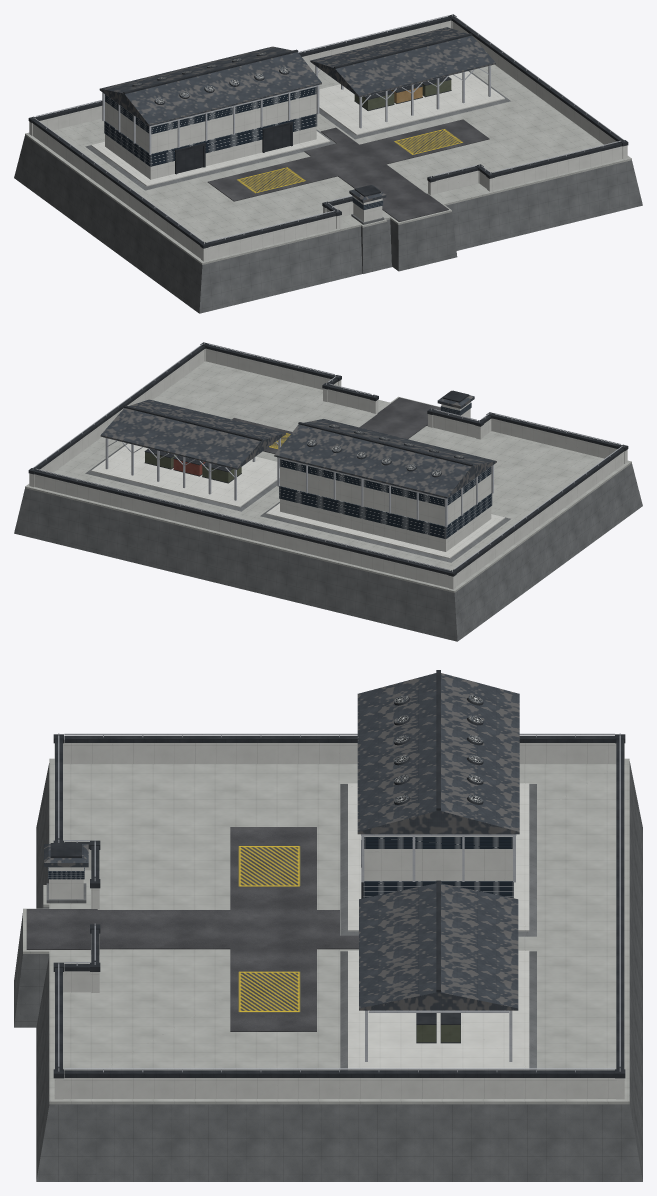
Rendered from barracks.glb.
3 views of the same model, one above another, from view 1: azimuth 30°, elevation 25°; view 2: azimuth 150°, elevation 25°; view 3: azimuth 270°, elevation 25° (orthographic). The views are drawn at different scales.
Visible parts, largest first — view 1: BRK_L1_ConcDark, BRK_L1_ConcMid, BRK_L1_ConcLight, BRK_L1_RoofCorr, BRK_L1_Asphalt, BRK_L1_SteelDark, BRK_L1_WindowDark, BRK_L1_SteelTruss, BRK_L1_HatchZone, BRK_L1_DoorCorr, BRK_L1_MilOlive, BRK_L1_RoofVent; view 2: BRK_L1_ConcDark, BRK_L1_ConcLight, BRK_L1_ConcMid, BRK_L1_RoofCorr, BRK_L1_SteelDark, BRK_L1_WindowDark, BRK_L1_SteelTruss, BRK_L1_Asphalt, BRK_L1_MilOlive, BRK_L1_RoofVent; view 3: BRK_L1_ConcMid, BRK_L1_ConcDark, BRK_L1_RoofCorr, BRK_L1_ConcLight, BRK_L1_Asphalt, BRK_L1_SteelDark, BRK_L1_HatchZone, BRK_L1_SteelTruss, BRK_L1_WindowDark, BRK_L1_RoofVent, BRK_L1_MilOlive.
Boxes of the visible parts, left/top/right/bottom form: BRK_L1_ConcDark: left=14, top=71, right=642, bottom=313; BRK_L1_ConcMid: left=25, top=64, right=631, bottom=264; BRK_L1_ConcLight: left=29, top=20, right=627, bottom=261; BRK_L1_RoofCorr: left=99, top=27, right=495, bottom=202; BRK_L1_Asphalt: left=207, top=119, right=489, bottom=221; BRK_L1_SteelDark: left=28, top=14, right=628, bottom=248; BRK_L1_WindowDark: left=104, top=86, right=383, bottom=209; BRK_L1_SteelTruss: left=32, top=14, right=624, bottom=243; BRK_L1_HatchZone: left=236, top=128, right=463, bottom=193; BRK_L1_DoorCorr: left=177, top=124, right=290, bottom=173; BRK_L1_MilOlive: left=354, top=80, right=451, bottom=110; BRK_L1_RoofVent: left=132, top=52, right=288, bottom=103; BRK_L1_ConcDark: left=14, top=443, right=642, bottom=641; BRK_L1_ConcLight: left=29, top=348, right=627, bottom=589; BRK_L1_ConcMid: left=25, top=361, right=631, bottom=592; BRK_L1_RoofCorr: left=100, top=390, right=496, bottom=498; BRK_L1_SteelDark: left=28, top=342, right=628, bottom=576; BRK_L1_WindowDark: left=279, top=402, right=492, bottom=538; BRK_L1_SteelTruss: left=32, top=342, right=624, bottom=571; BRK_L1_Asphalt: left=232, top=397, right=441, bottom=453; BRK_L1_MilOlive: left=145, top=452, right=241, bottom=482; BRK_L1_RoofVent: left=307, top=425, right=463, bottom=476; BRK_L1_ConcMid: left=23, top=758, right=629, bottom=1104; BRK_L1_ConcDark: left=14, top=761, right=642, bottom=1181; BRK_L1_RoofCorr: left=44, top=673, right=519, bottom=1010; BRK_L1_ConcLight: left=48, top=740, right=624, bottom=1099; BRK_L1_Asphalt: left=26, top=827, right=358, bottom=1031; BRK_L1_SteelDark: left=50, top=670, right=625, bottom=1078; BRK_L1_HatchZone: left=238, top=845, right=300, bottom=1012; BRK_L1_SteelTruss: left=58, top=733, right=620, bottom=1072; BRK_L1_WindowDark: left=48, top=836, right=513, bottom=898; BRK_L1_RoofVent: left=394, top=695, right=483, bottom=802; BRK_L1_MilOlive: left=416, top=1025, right=460, bottom=1042.
Bounding box in the file's own units: 102 × 26.18 × 76.2.
14 materials, 14 textured.
